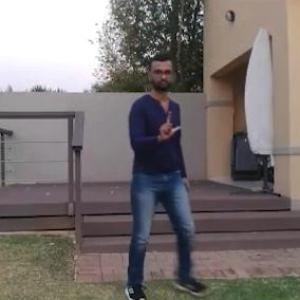land_hand: (147, 104, 180, 147)
